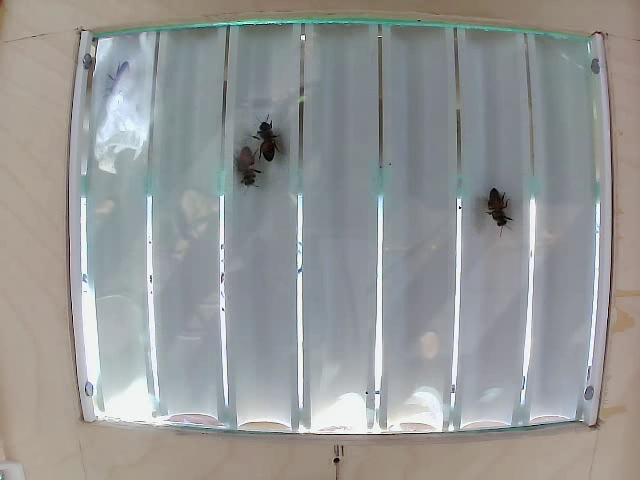bee: (459, 179, 527, 234), (252, 121, 283, 164), (102, 59, 136, 96), (233, 143, 261, 187)
